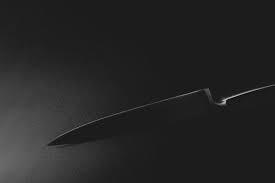Knife: (46, 81, 274, 147)
